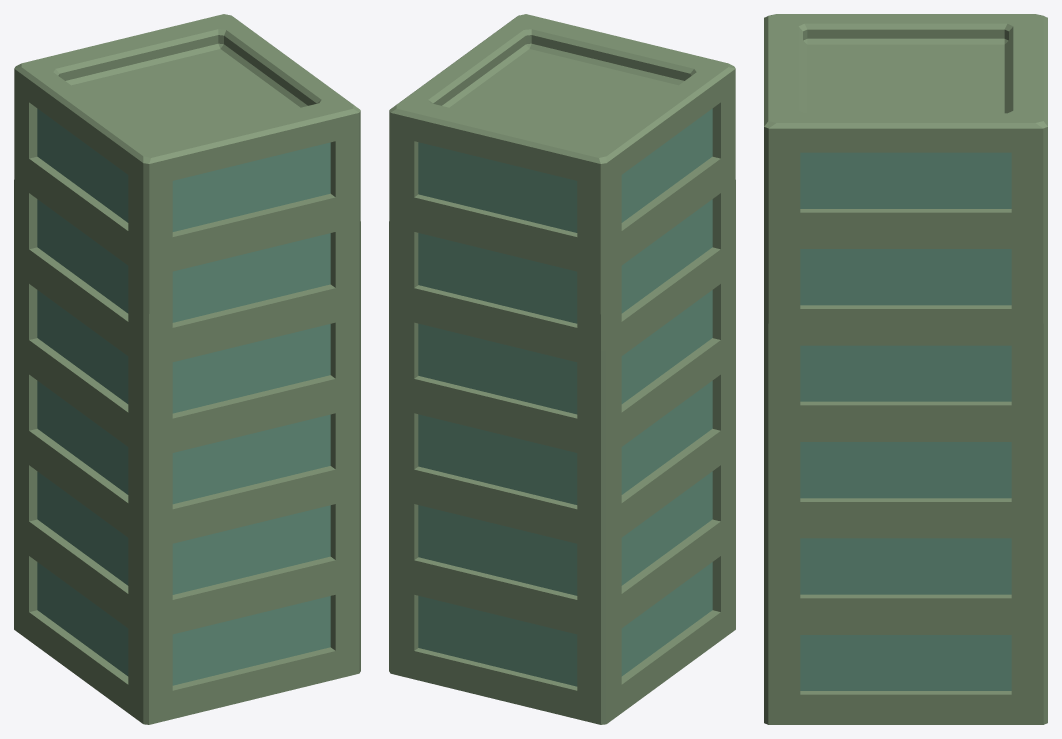
File: building2.fbx
The picture shows the model from 3 angles, left to right: view 1: azimuth 30°, elevation 25°; view 2: azimuth 150°, elevation 25°; view 3: azimuth 270°, elevation 25°; orthographic projection. The views are drawn at different scales.
Parts seen in each view (by area): view 1: building2; view 2: building2; view 3: building2.
Part boxes in pixels (x1,y1,x2,y2): building2: (14,14,360,724); building2: (389,14,735,724); building2: (764,14,1047,724).
Bounding box in the file's own units: 3886 × 9638 × 4132.
